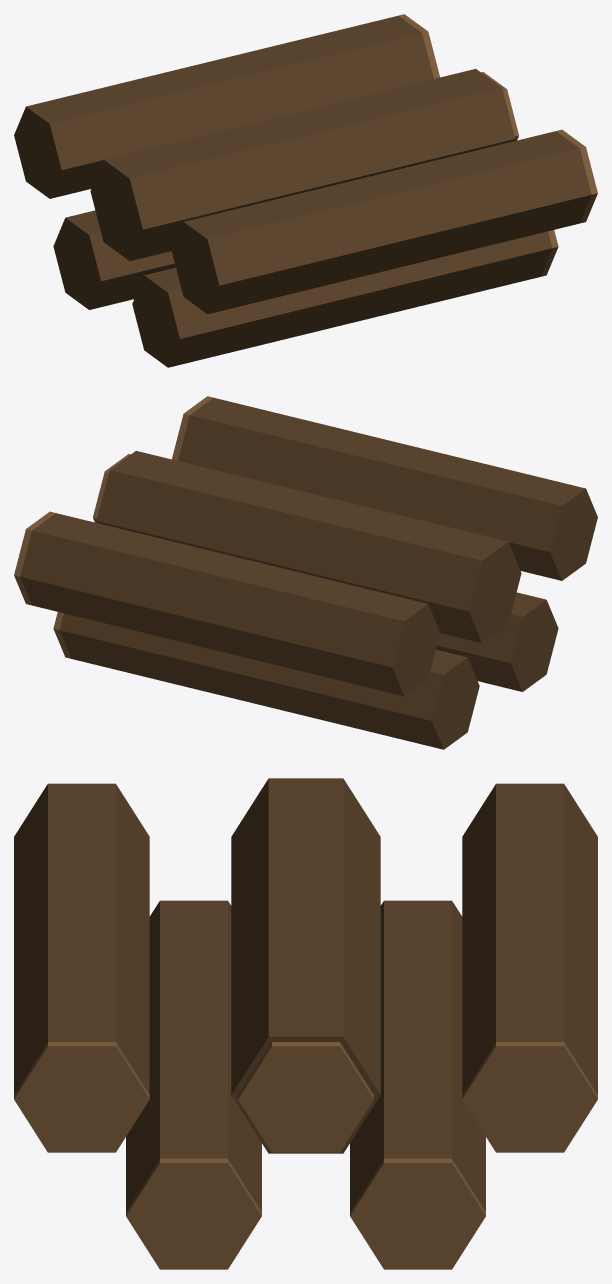
The model's file is log_pile.glb.
The picture shows the model from 3 angles, top to bottom: view 1: azimuth 30°, elevation 25°; view 2: azimuth 150°, elevation 25°; view 3: azimuth 270°, elevation 25°; orthographic projection. The views are drawn at different scales.
Parts seen in each view (by area): view 1: log_pile; view 2: log_pile; view 3: log_pile.
Boxes of the visible parts, x1,y1,x2,y2 form: log_pile: (14,14,597,367); log_pile: (14,396,597,749); log_pile: (14,778,597,1269).
Size of what is drawn, in the model's own units: 1.83 by 0.7437 by 1.72.
